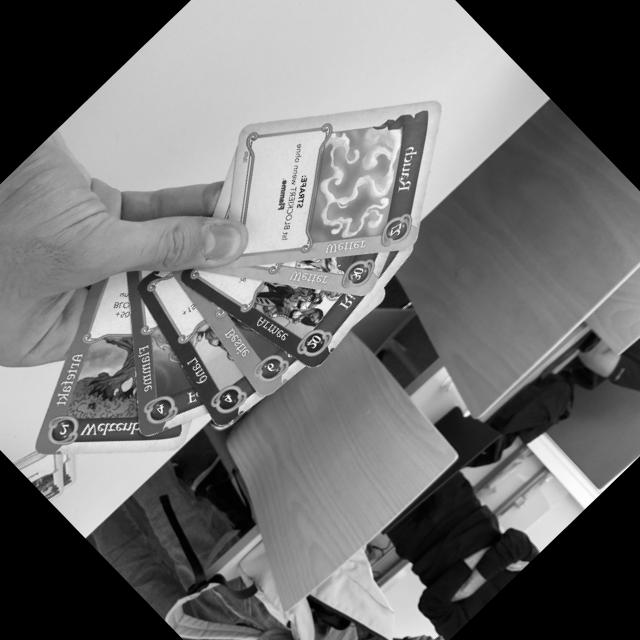Blizzard: (199, 251, 390, 293)
Earth Elemental: (137, 270, 264, 429)
Fire Elemental: (127, 269, 209, 438)
Knights: (181, 271, 375, 370)
Smoke: (227, 100, 442, 267)
War Horse: (178, 283, 306, 398)
World Tree: (34, 270, 143, 454)
